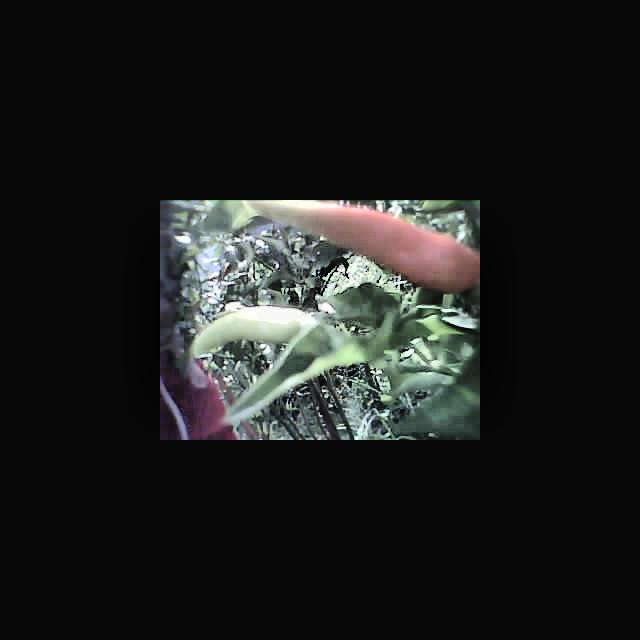Cabai: (265, 200, 480, 285)
